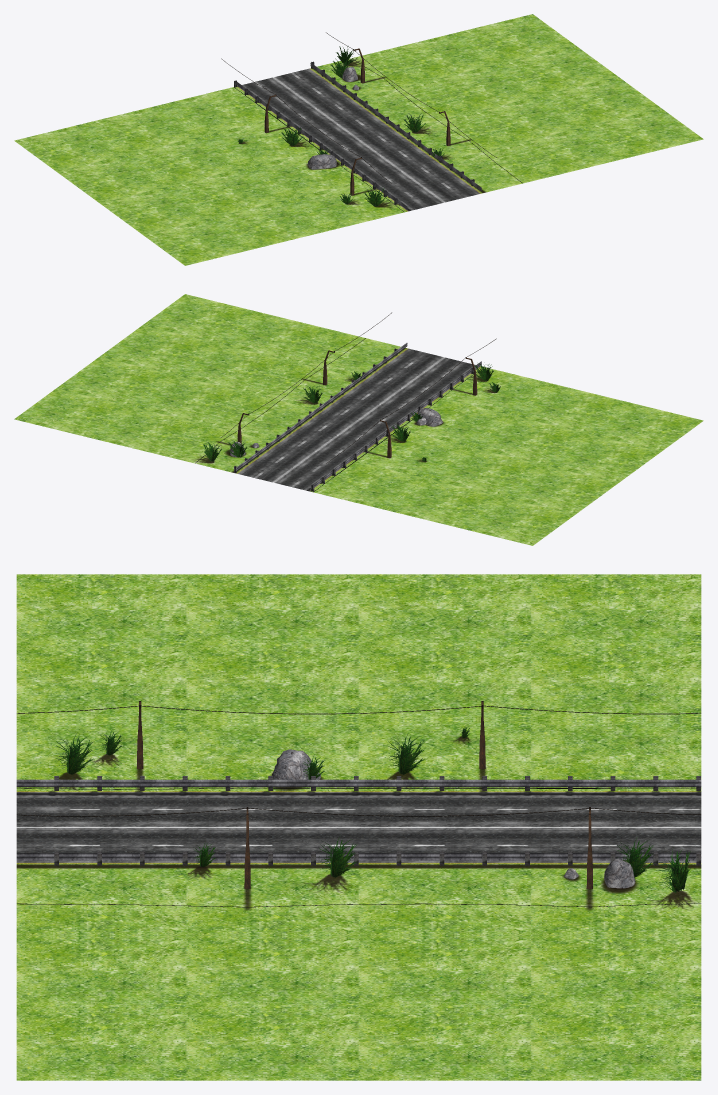
3 renders of one model, top to bottom at view 1: azimuth 30°, elevation 25°; view 2: azimuth 150°, elevation 25°; view 3: azimuth 270°, elevation 25°, orthographic. The views are drawn at different scales.
Parts seen in each view (by area): view 1: scene2, road009, tree1, Box004, rock005; view 2: scene2, road009, tree1, Box004, rock005; view 3: scene2, road009, tree1, Box004, rock005.
Part boxes in pixels (x1,y1,x2,y2): scene2: (14,14,703,265); road009: (234,61,481,211); tree1: (237,46,444,206); Box004: (221,32,522,211); rock005: (307,67,359,169); scene2: (14,294,703,545); road009: (234,343,481,491); tree1: (203,363,500,461); Box004: (195,312,496,492); rock005: (230,408,442,457); scene2: (16,574,701,1080); road009: (16,776,701,865); tree1: (56,726,690,892); Box004: (16,701,701,907); rock005: (272,749,635,888).
Size of the model in its own units: 140 by 9.68 by 80.
